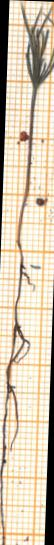flower: (21, 3, 53, 87)
root: (0, 261, 29, 544)
stem: (17, 87, 35, 257)
